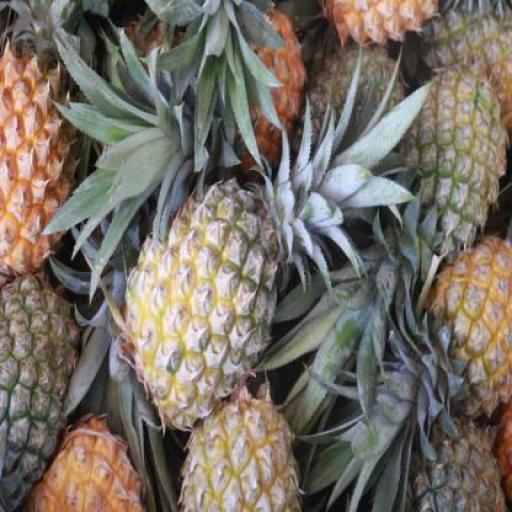------------------------------: (127, 180, 279, 428), (411, 58, 511, 252), (180, 384, 304, 512)
Pineapple - v8 v1: (0, 46, 81, 278), (432, 235, 511, 411), (26, 411, 154, 512)
